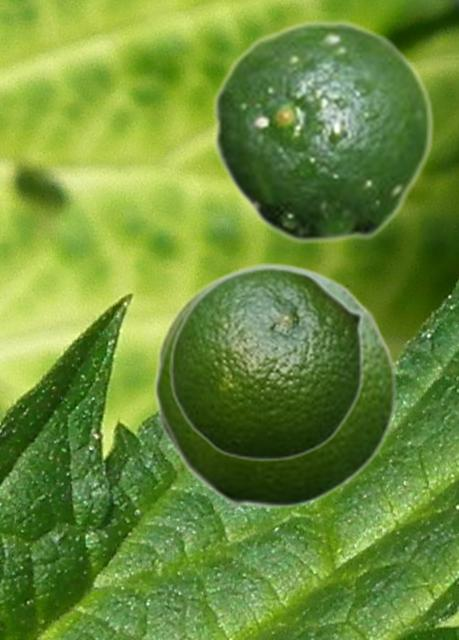calamansi: (152, 260, 397, 508), (153, 264, 393, 507), (212, 19, 434, 244), (169, 266, 364, 461)
